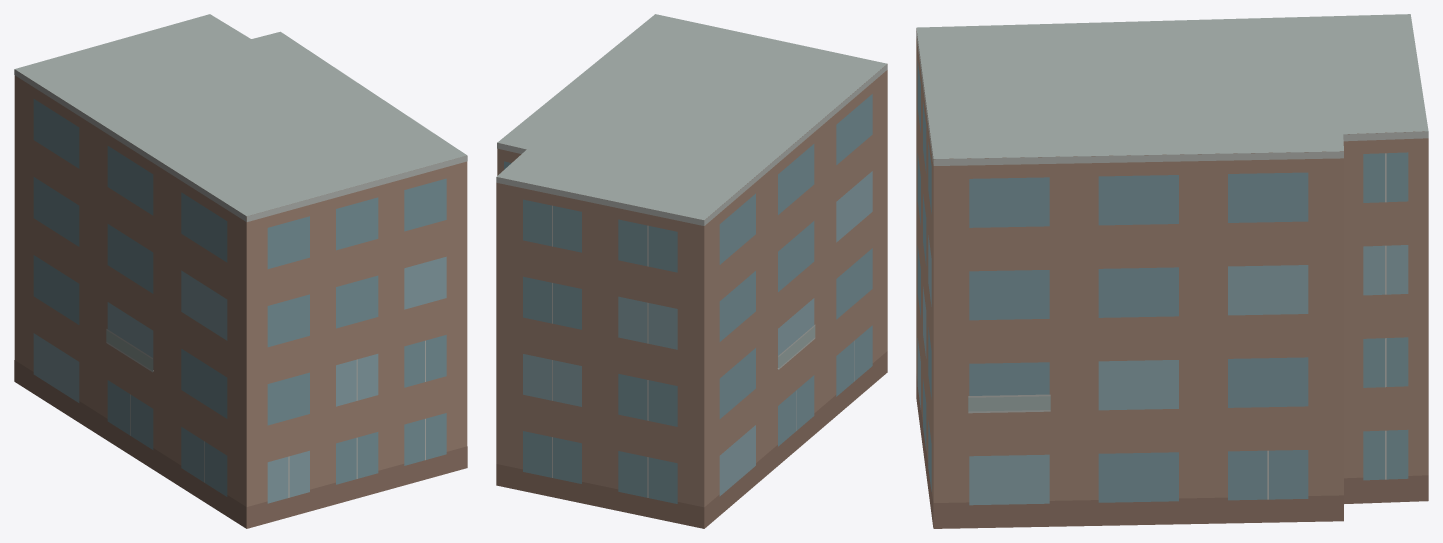
The model's file is survey-upis-32842071.glb.
The picture shows the model from 3 angles, left to right: view 1: azimuth 30°, elevation 25°; view 2: azimuth 150°, elevation 25°; view 3: azimuth 270°, elevation 25°; orthographic projection. The views are drawn at different scales.
Visible parts, largest first — view 1: survey-upis-32842071.tmp; view 2: survey-upis-32842071.tmp; view 3: survey-upis-32842071.tmp.
Part boxes in pixels (x1,y1,x2,y2): survey-upis-32842071.tmp: (14, 14, 467, 528); survey-upis-32842071.tmp: (496, 14, 887, 528); survey-upis-32842071.tmp: (916, 14, 1428, 528).
Size of the model in its own units: 10.78 by 12.8 by 16.08.
